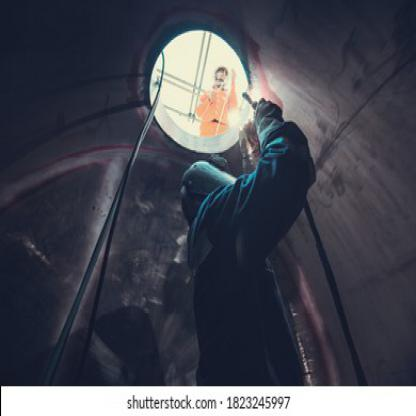with_gloves: (239, 114, 261, 177)
